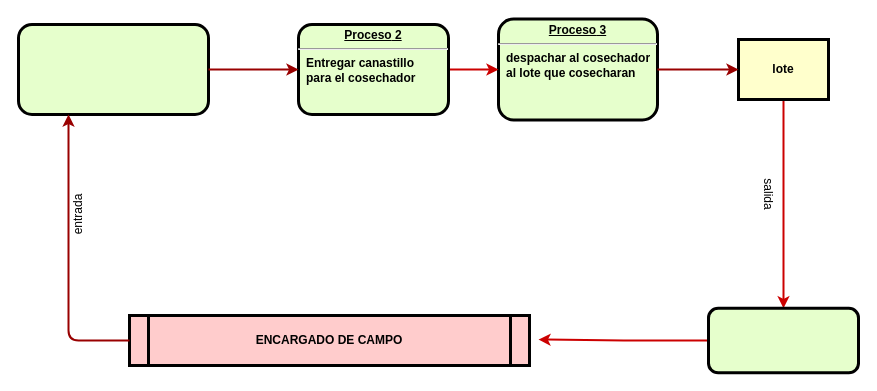
Image size: 877x391. Some labels were removed from this diagram. The shapes that lost their labels are listed below. From the top down, each one's centre as x and y in pixels, then its label:
At (113,69): "Proceso 1 tomar temperatura al personal que llega".
At (783,340): "Proceso 4 recibir canastillo del cosechador".
